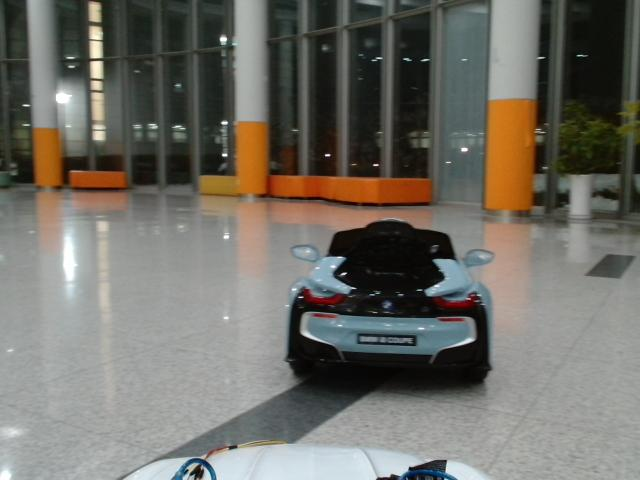car: (285, 219, 496, 384)
